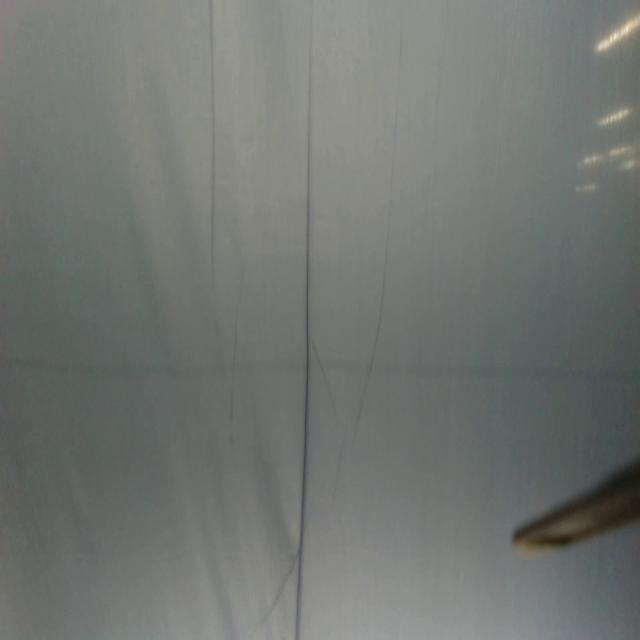color bleeding: (0, 346, 640, 395)
crease: (354, 31, 408, 443), (292, 1, 317, 640), (205, 0, 220, 290), (225, 286, 246, 428)
